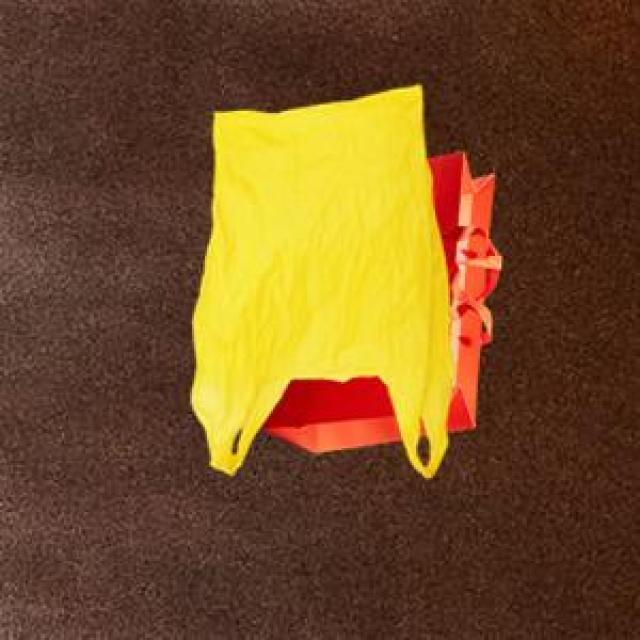paper: (258, 147, 497, 448)
